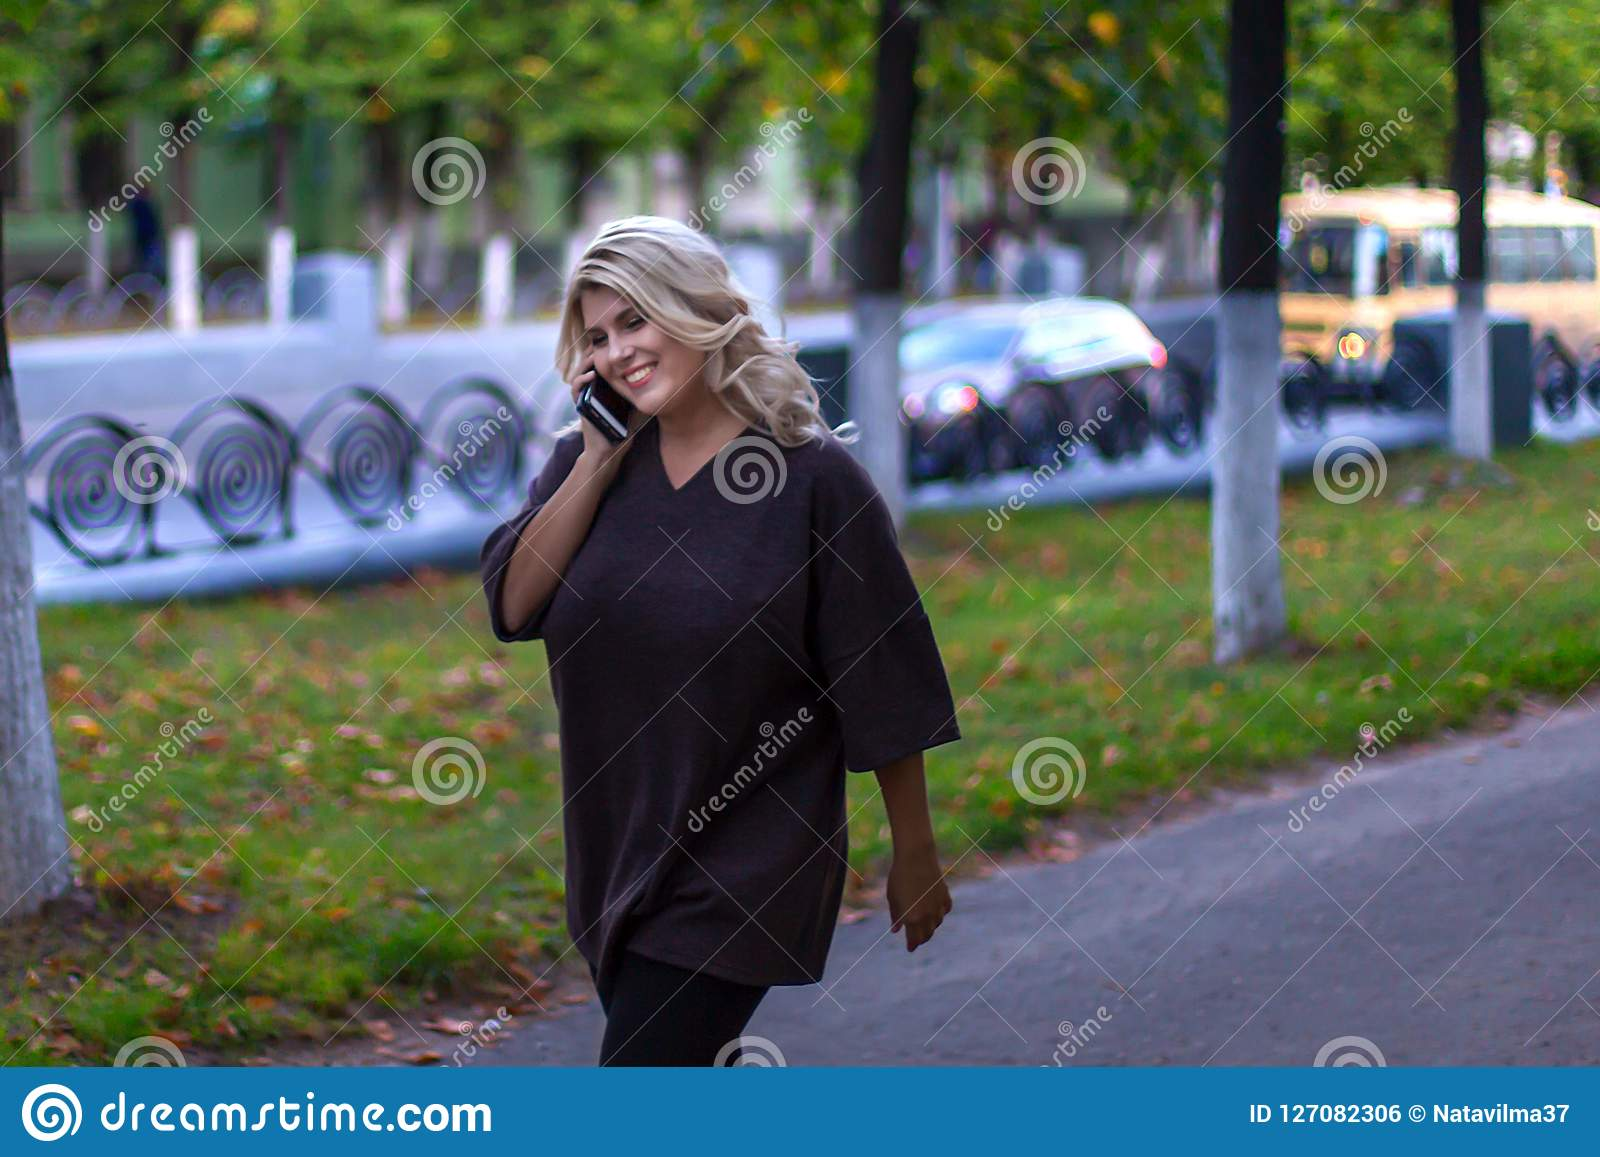phone: (571, 370, 646, 455)
talk: (568, 300, 670, 473)
